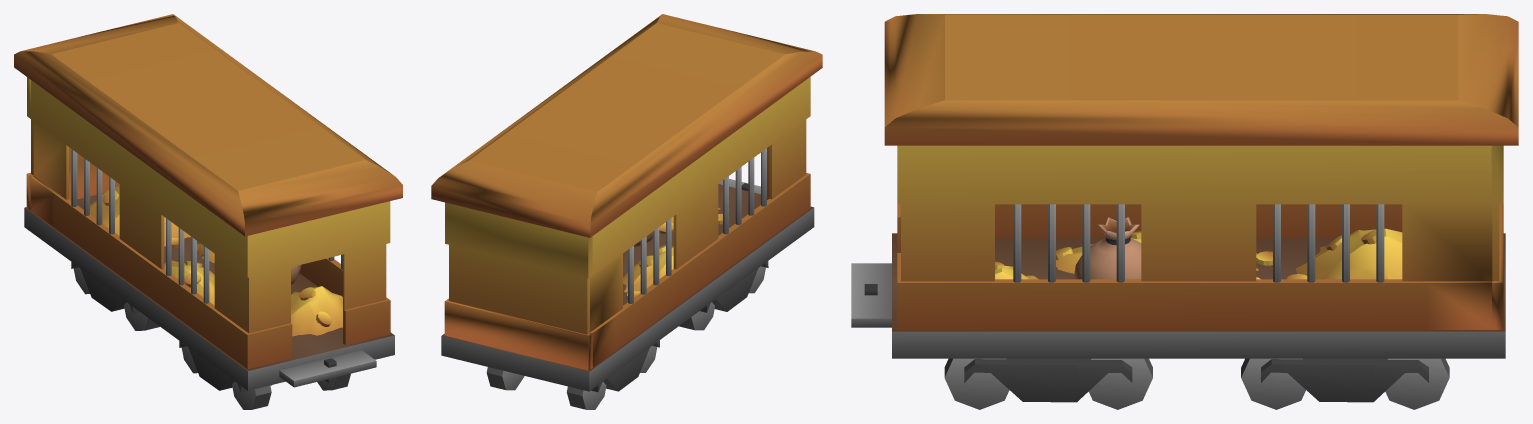
The model's file is Gold_Wagon_Remake.fbx.
The picture shows the model from 3 angles, left to right: view 1: azimuth 30°, elevation 25°; view 2: azimuth 150°, elevation 25°; view 3: azimuth 270°, elevation 25°; orthographic projection. The views are drawn at different scales.
Parts seen in each view (by area): view 1: Techo, Cuerpo, Floor, Pile_1, Puerta, Pile_4, Pile_2; view 2: Techo, Cuerpo, Puerta, Floor, Pile_2; view 3: Cuerpo, Techo, Floor, Pile_4, Bag, Puerta, Pile_2.
Part boxes in pixels (left/top/right/bottom): Techo: left=14, top=14, right=402, bottom=236; Cuerpo: left=31, top=80, right=390, bottom=369; Floor: left=24, top=193, right=394, bottom=409; Pile_1: left=291, top=286, right=342, bottom=336; Puerta: left=26, top=77, right=119, bottom=210; Pile_4: left=90, top=185, right=190, bottom=248; Pile_2: left=164, top=260, right=214, bottom=305; Techo: left=431, top=14, right=822, bottom=237; Cuerpo: left=590, top=77, right=810, bottom=367; Puerta: left=444, top=202, right=592, bottom=370; Floor: left=441, top=179, right=814, bottom=409; Pile_2: left=623, top=245, right=673, bottom=299; Cuerpo: left=897, top=145, right=1492, bottom=329; Techo: left=884, top=14, right=1518, bottom=145; Floor: left=851, top=233, right=1505, bottom=409; Pile_4: left=1286, top=228, right=1402, bottom=279; Bag: left=1074, top=216, right=1141, bottom=279; Puerta: left=1491, top=145, right=1503, bottom=329; Pile_2: left=1056, top=231, right=1272, bottom=273.
Size of the model in its own units: 363 by 511 by 968.
